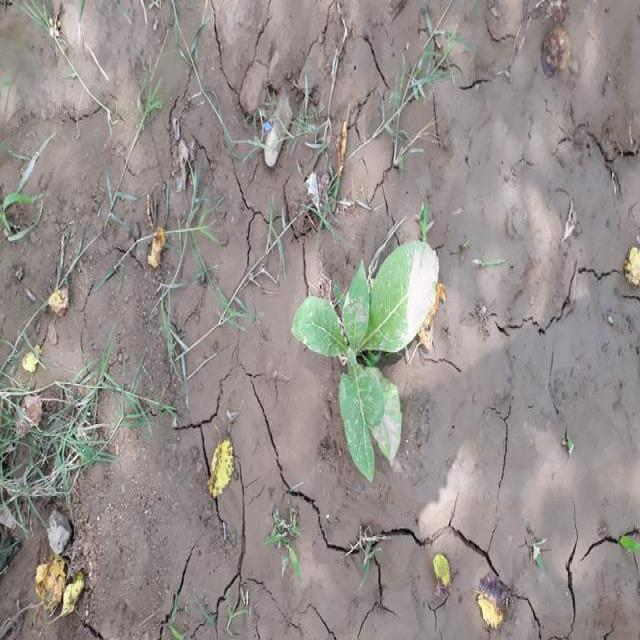crop: (302, 239, 446, 476)
